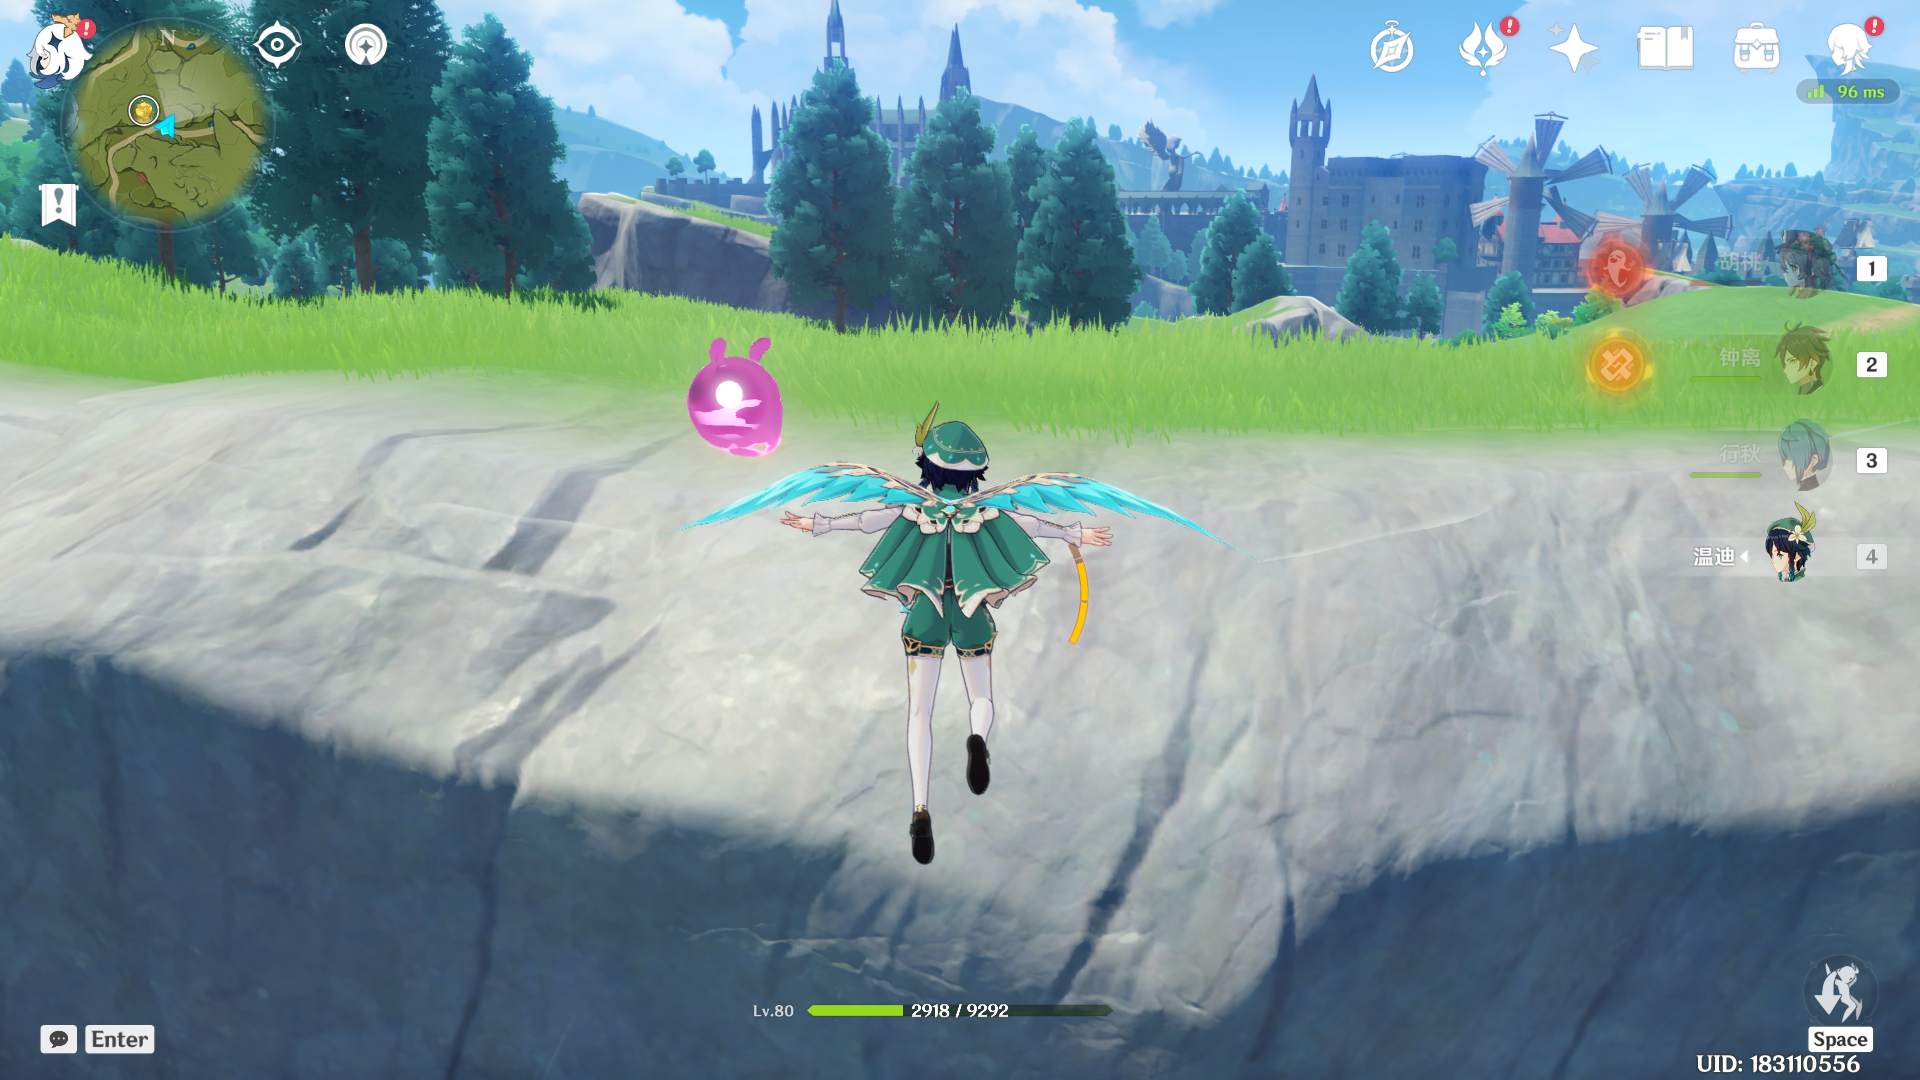character: (802, 402, 1116, 869)
